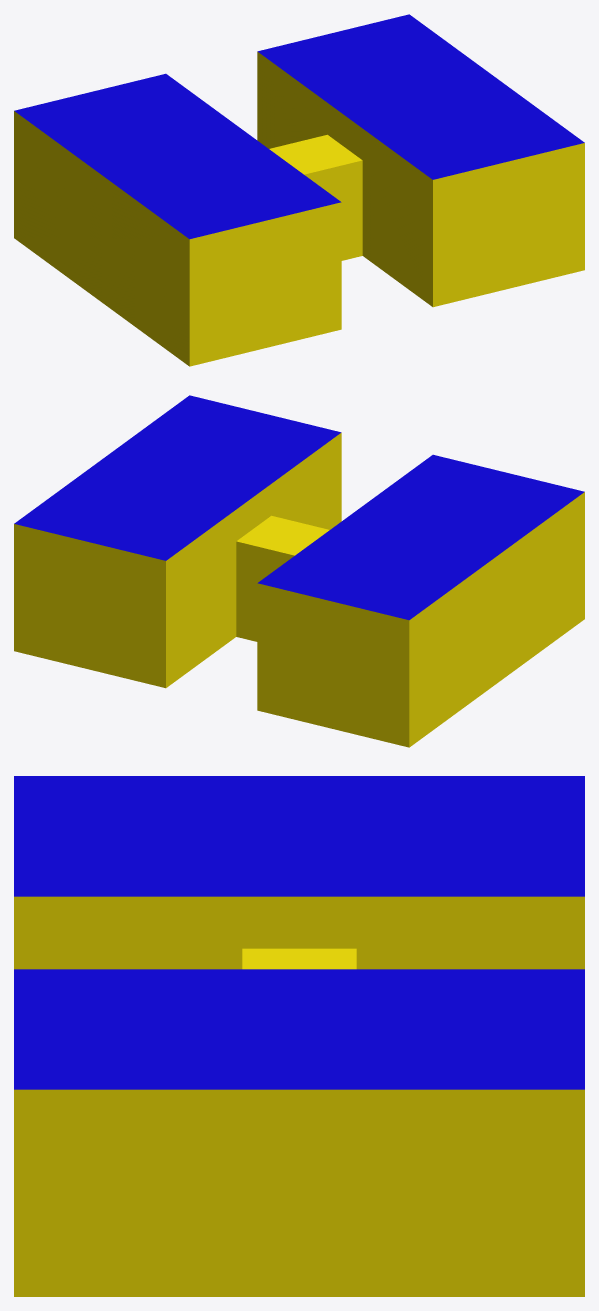
File: room.glb
3 renders of one model, top to bottom at view 1: azimuth 30°, elevation 25°; view 2: azimuth 150°, elevation 25°; view 3: azimuth 270°, elevation 25°, orthographic. The views are drawn at different scales.
Parts seen in each view (by area): view 1: Plane, Plane.003, Plane.001, Plane.004, Cube; view 2: Plane, Plane.003, Plane.001, Plane.004, Cube; view 3: Plane.003, Plane.001, Plane.004, Plane, Cube.
Part boxes in pixels (box(x1,y1,x2,y2)): Plane: box(14, 111, 341, 366); Plane.003: box(257, 51, 584, 307); Plane.001: box(14, 73, 341, 239); Plane.004: box(257, 14, 584, 179); Cube: box(269, 134, 362, 260); Plane: box(257, 492, 584, 747); Plane.003: box(14, 432, 341, 688); Plane.001: box(257, 454, 584, 620); Plane.004: box(14, 395, 341, 560); Cube: box(236, 515, 329, 641); Plane.003: box(14, 1089, 584, 1296); Plane.001: box(14, 776, 584, 896); Plane.004: box(14, 969, 584, 1089); Plane: box(14, 896, 584, 969); Cube: box(242, 948, 356, 969).
Size of the model in its own units: 13 by 4 by 10.
